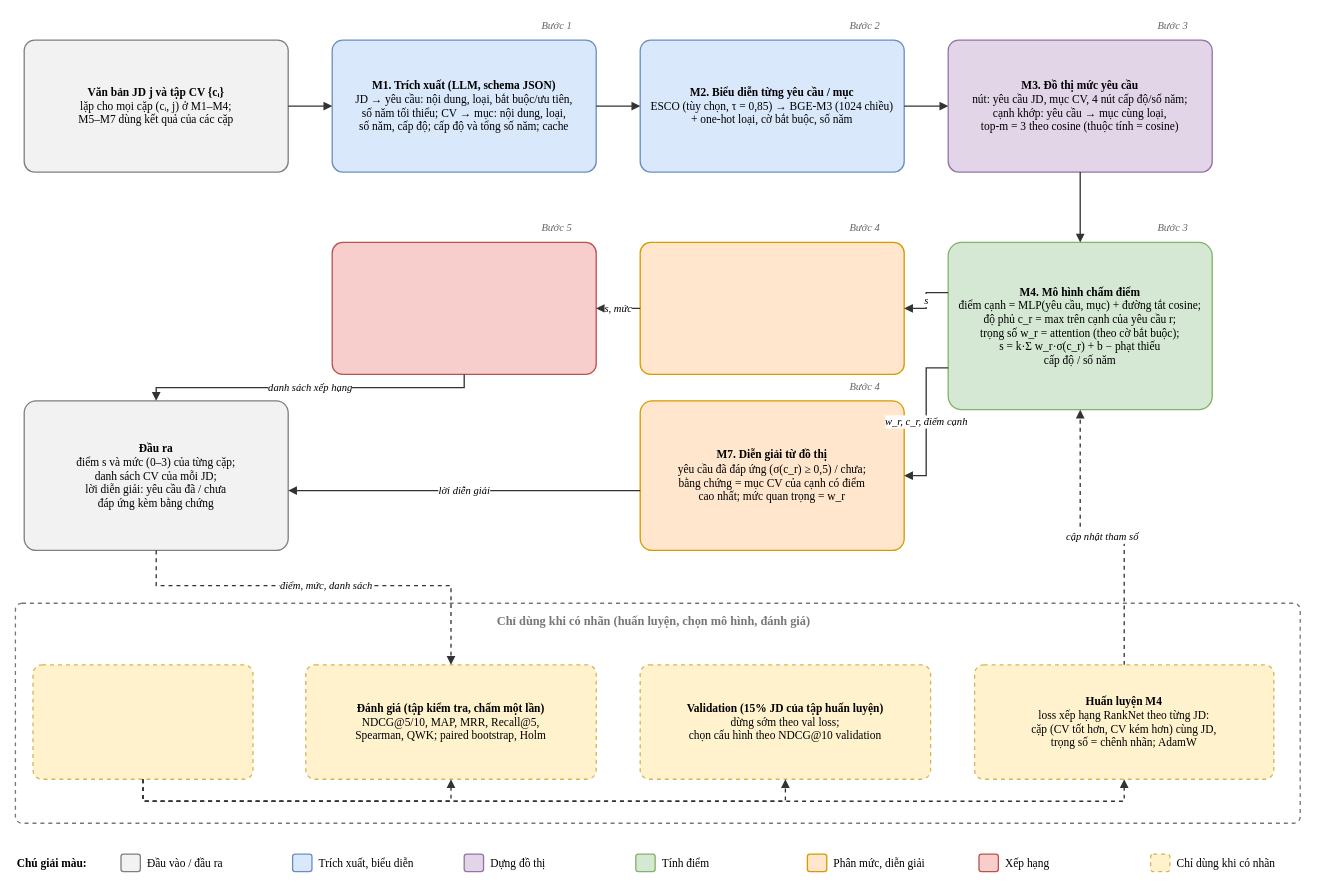
This 1334x891 diagram has some shape labels left out. The centre of each missing label's shape, as x and y in pixels:
M5. Phân mức 0–3 quy điểm s về mức 0–3 theo phân vị trong từng JD: pixel 771 308
M6. Xếp hạng gom các cặp cùng một JD; sắp CV theo s giảm dần: pixel 463 308
Nhãn y y = 0, 1, 2, 3 (mức phù hợp của cặp): pixel 142 722
